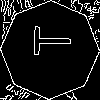T: (25, 25, 71, 57)
